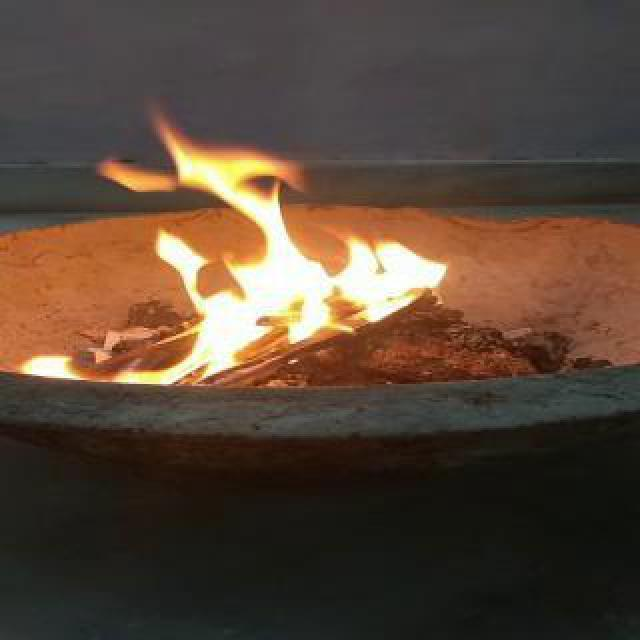Fire: (28, 84, 428, 388)
